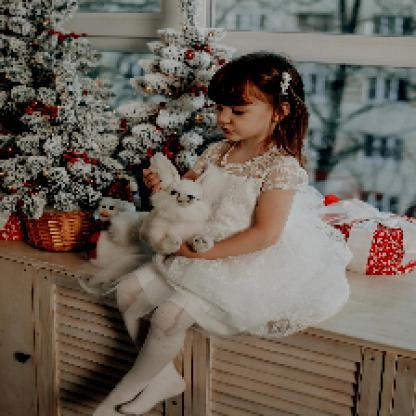child: (92, 51, 358, 415)
